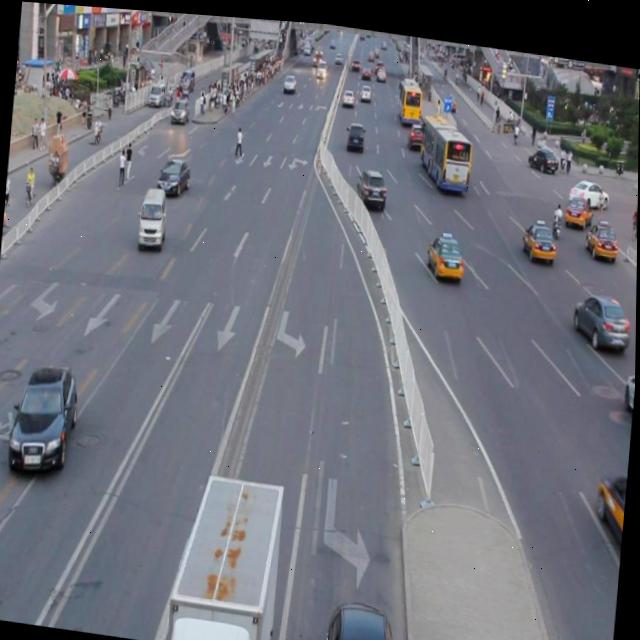bus: (167, 462, 285, 640)
car: (7, 356, 83, 477), (570, 278, 632, 342), (326, 590, 402, 640), (594, 459, 629, 552), (426, 223, 466, 273), (155, 152, 192, 195), (521, 210, 557, 253), (584, 208, 618, 251), (622, 351, 636, 415)
truck: (137, 183, 170, 246)
